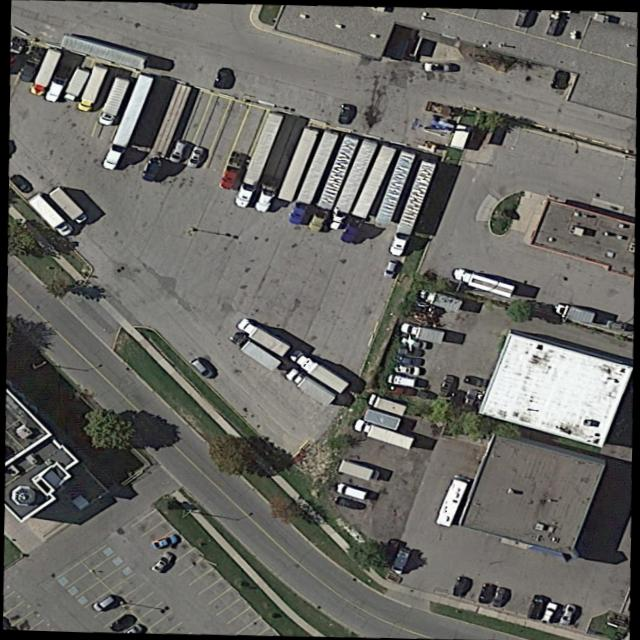large-vehicle: (339, 143, 396, 242), (305, 132, 359, 231), (100, 73, 153, 169), (232, 109, 283, 206), (141, 82, 191, 180), (287, 128, 338, 223), (326, 136, 377, 229), (388, 158, 436, 254), (217, 103, 264, 188), (60, 32, 148, 70), (288, 347, 349, 392), (225, 328, 284, 370), (235, 316, 289, 355), (26, 191, 73, 235), (283, 365, 335, 404), (451, 266, 514, 296), (27, 44, 63, 96), (351, 418, 413, 448), (44, 50, 78, 102), (96, 74, 129, 124), (75, 62, 107, 110), (48, 185, 87, 223), (416, 285, 464, 311), (60, 63, 90, 102), (553, 299, 596, 324), (399, 320, 444, 342), (337, 458, 379, 481), (365, 392, 407, 414)
small-vehicle: (185, 354, 217, 380), (388, 545, 411, 574), (334, 481, 369, 500), (108, 611, 139, 632), (148, 549, 175, 573), (166, 136, 189, 162), (89, 592, 117, 612), (526, 591, 545, 620), (8, 172, 33, 194), (150, 531, 179, 549), (539, 597, 559, 623), (557, 600, 577, 626), (548, 66, 567, 92), (460, 371, 489, 388), (386, 371, 418, 386), (436, 372, 456, 395), (186, 144, 205, 168), (447, 386, 466, 410), (211, 64, 229, 89), (399, 335, 427, 350), (332, 494, 359, 509), (449, 574, 467, 596), (337, 100, 353, 124), (462, 385, 480, 406), (490, 585, 506, 608), (478, 579, 493, 603), (381, 257, 398, 278), (422, 59, 451, 71), (397, 344, 422, 357), (386, 383, 415, 394), (395, 353, 421, 365), (393, 363, 419, 374)
